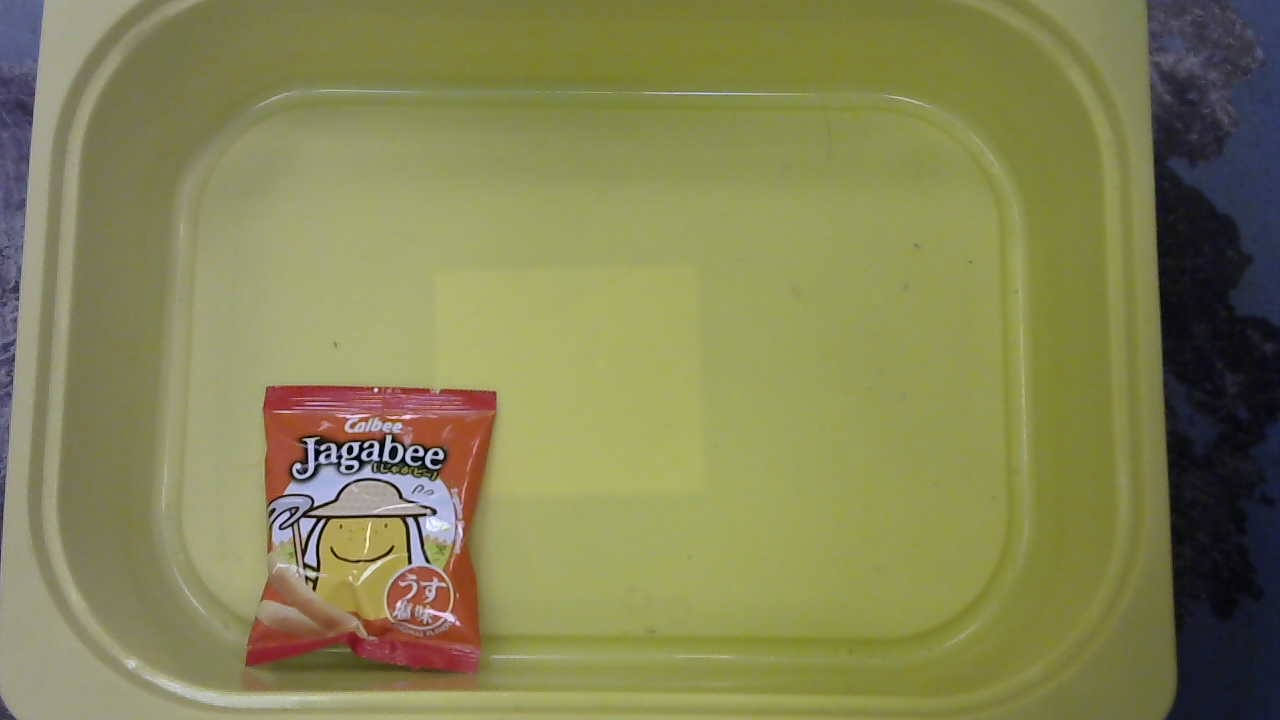JagabeeFarmer: (244, 375, 502, 682)
